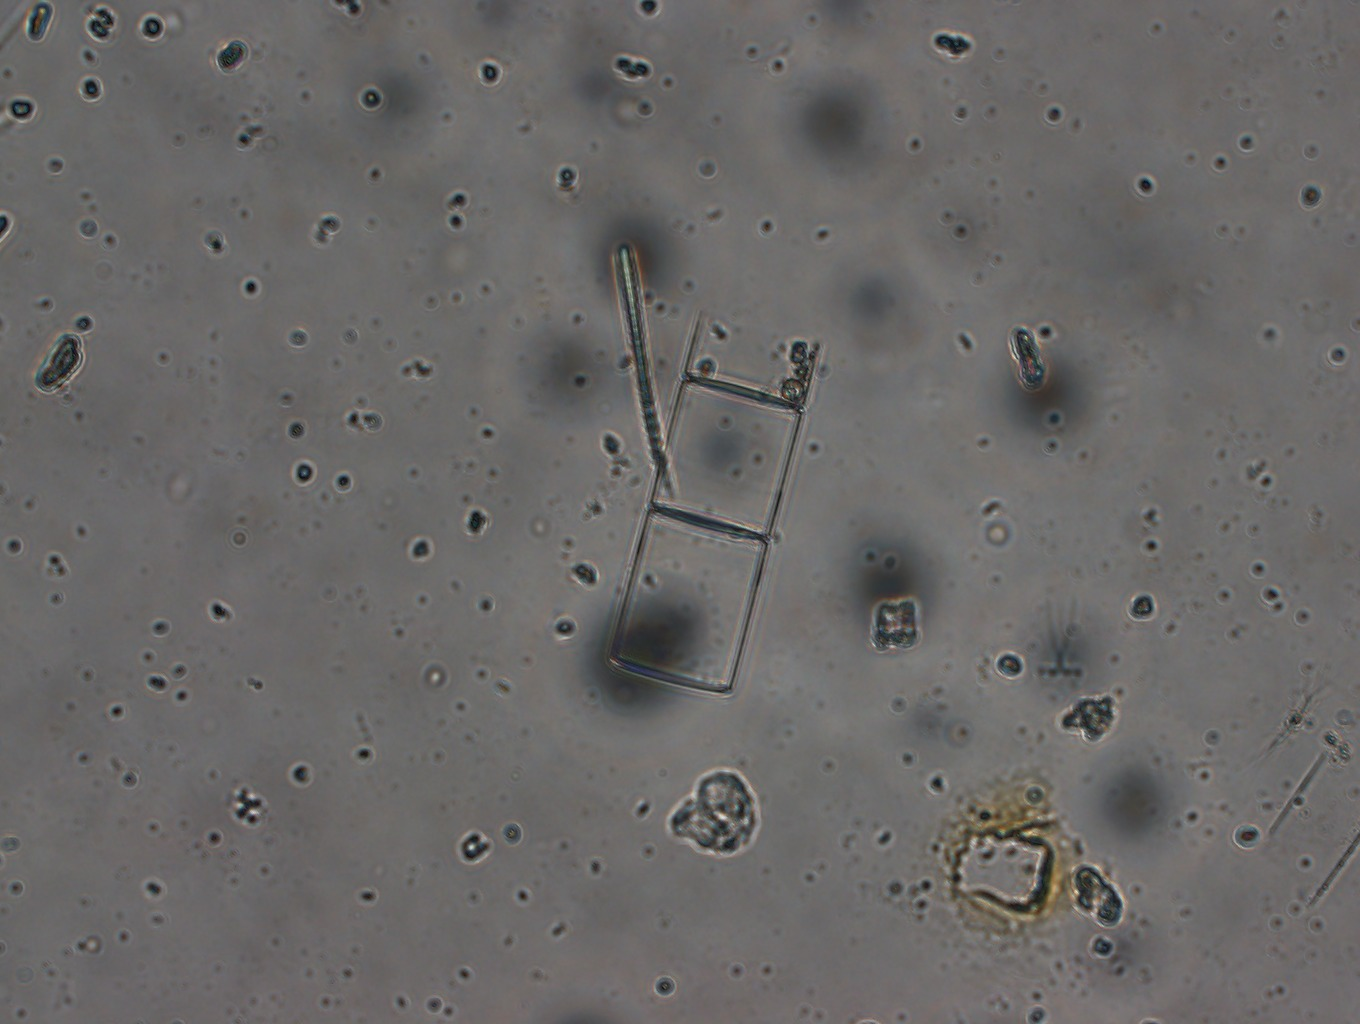guinardia flaccida: (609, 312, 821, 697)
